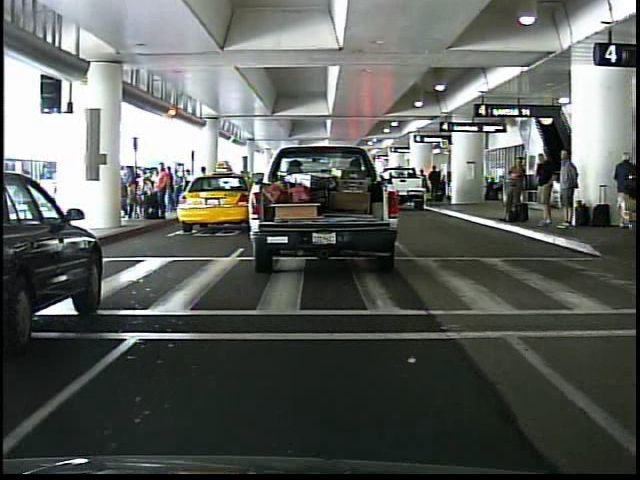person: (610, 149, 635, 234)
